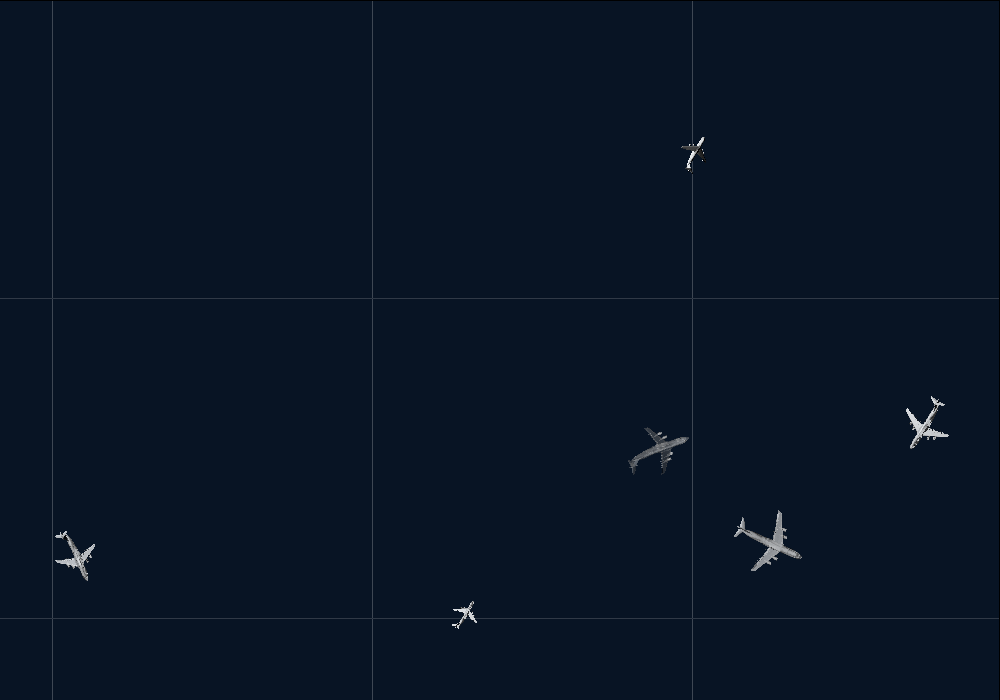plane: (722, 496, 816, 588), (617, 412, 700, 492), (886, 385, 963, 463), (39, 521, 108, 592), (671, 128, 721, 179), (442, 592, 486, 636)
